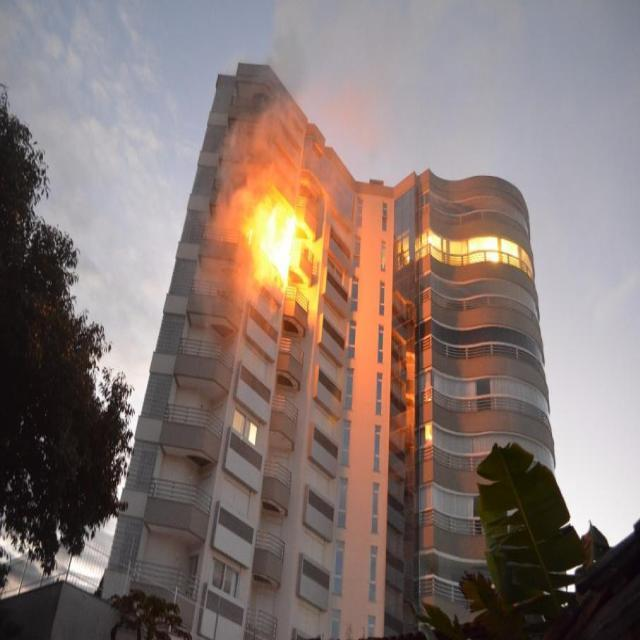Fire: (252, 202, 302, 282)
